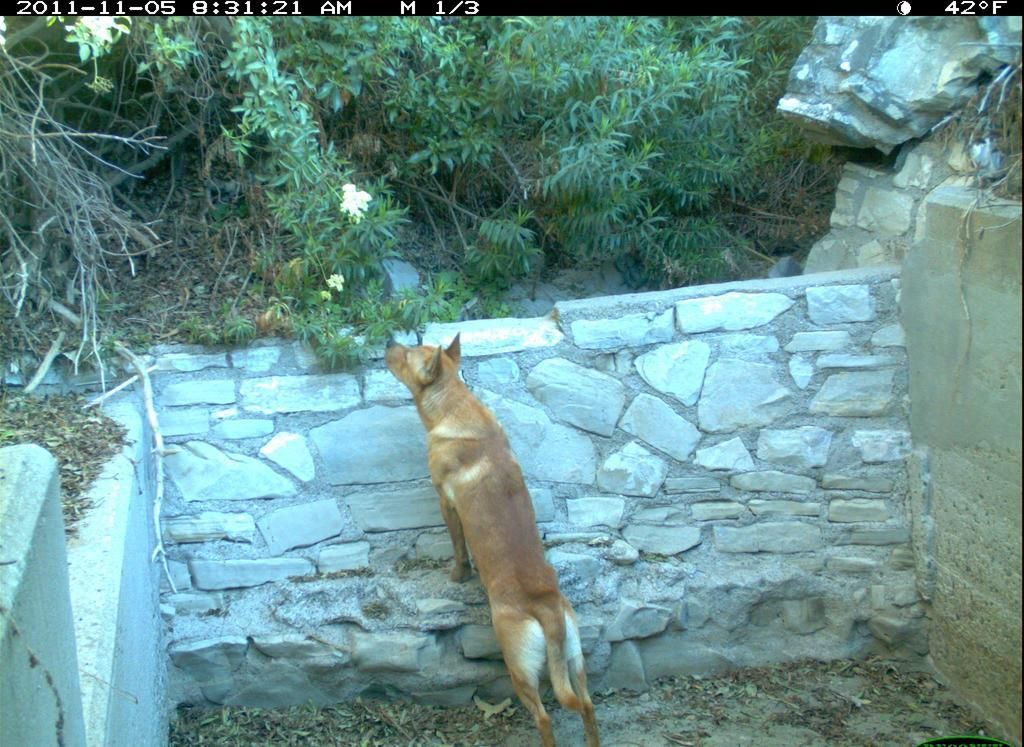dog: (377, 326, 614, 747)
